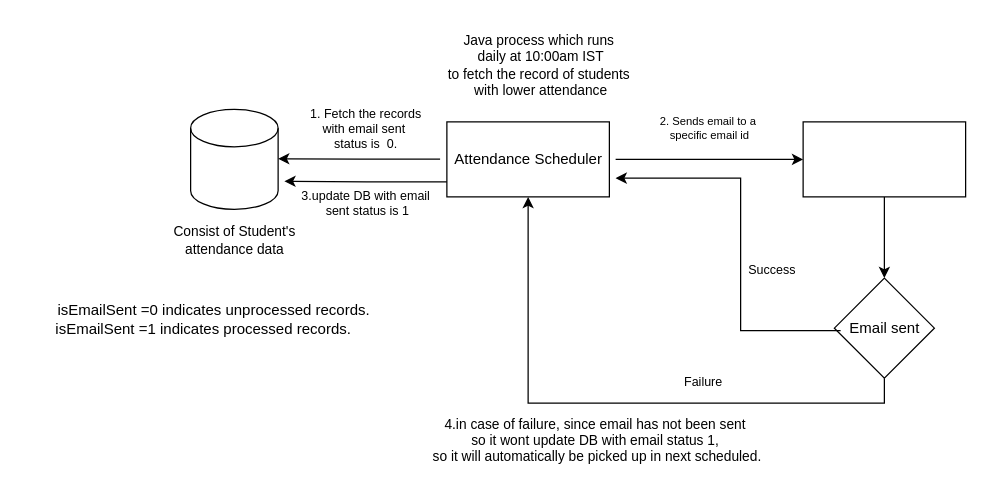
This 988x493 diagram has some shape labels left out. The shapes that lost their labels are listed below. From the top down, each one's centre as x and y in pixels, then its label:
[233,158]: Student DB
[884,159]: Student mailBox
